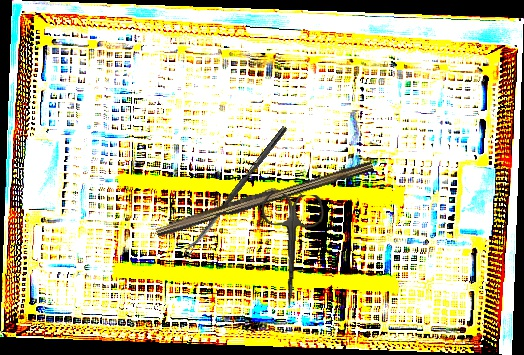Iris Scissors: (257, 192, 325, 308)
Scalpel Handle: (153, 154, 375, 241)
Surgical Spoon: (183, 124, 288, 257)
